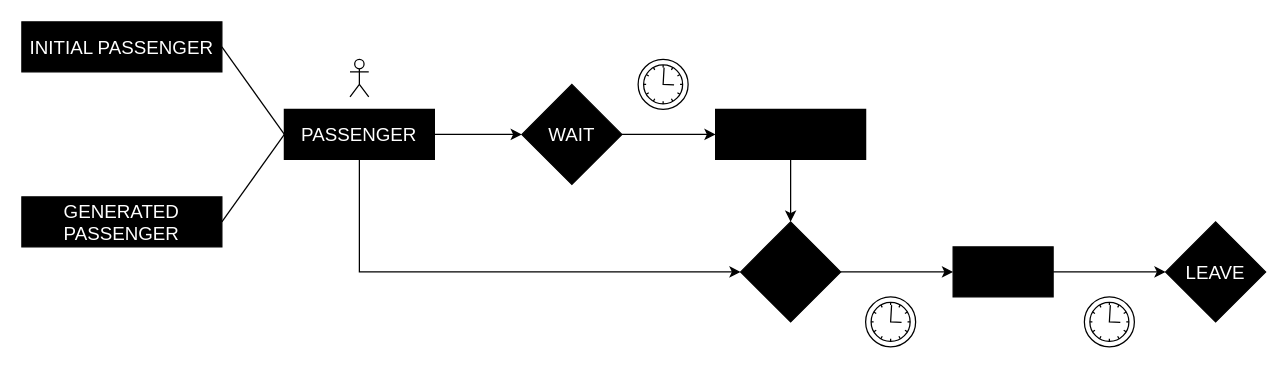
Image size: 1288x369. Some labels were removed from this diagram. Each missing label, with the centre of its shape:
"ONBOARD" belongs at point 790,271.
"STATION" belongs at point 790,133.
"TRAIN" belongs at point 1002,271.
